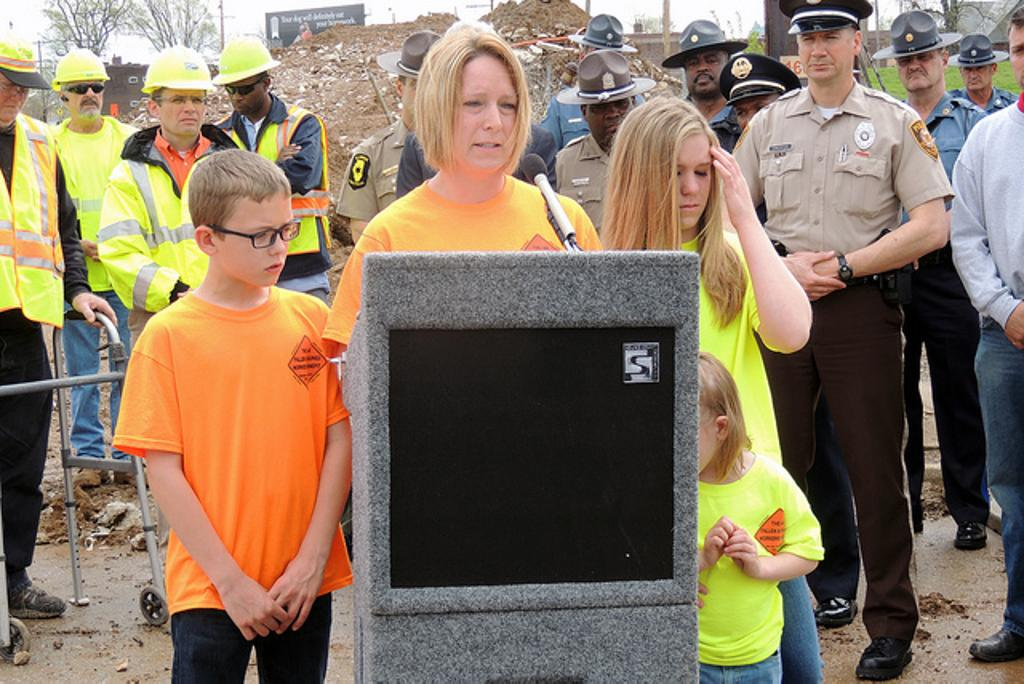face: (438, 55, 518, 173), (214, 185, 292, 286), (650, 131, 710, 229), (796, 21, 851, 79), (585, 94, 633, 148), (160, 87, 204, 134), (732, 92, 778, 134), (896, 48, 940, 91), (682, 49, 723, 94), (224, 73, 263, 113), (0, 70, 28, 122), (66, 79, 104, 117), (404, 77, 437, 114), (1007, 21, 1023, 84), (961, 60, 992, 91)
